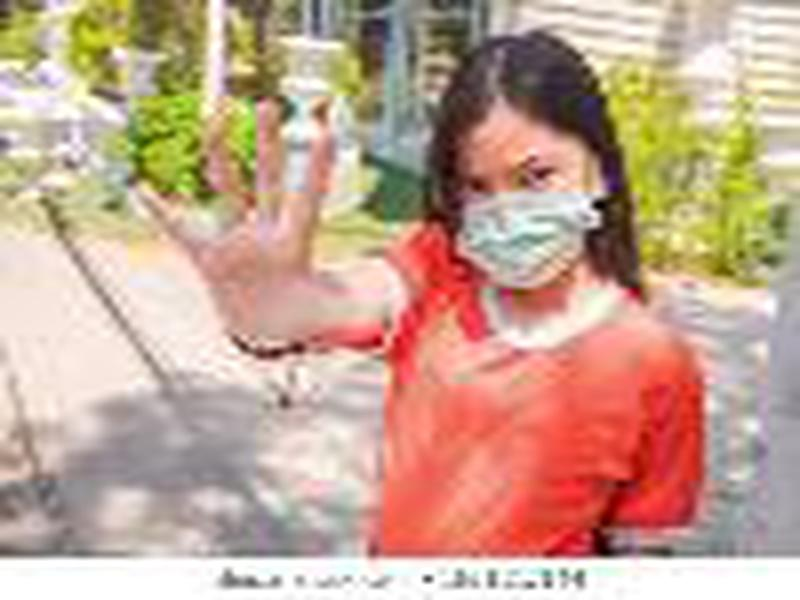with_mask: (447, 118, 605, 291)
